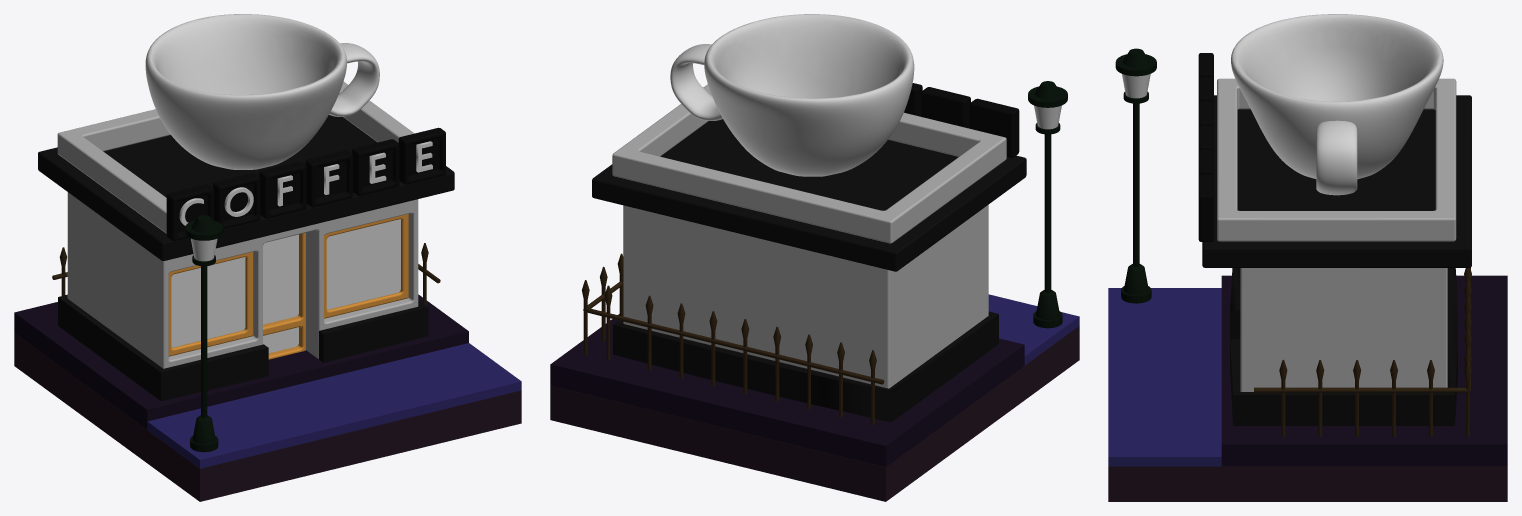
The model's file is coffee-shop.glb.
The picture shows the model from 3 angles, left to right: view 1: azimuth 30°, elevation 25°; view 2: azimuth 150°, elevation 25°; view 3: azimuth 270°, elevation 25°; orthographic projection. The views are drawn at different scales.
Parts seen in each view (by area): view 1: Plane, Cup, Cube001, Cube, Plane001, Cube002, Plane004, Plane002, Plane003, Circle002, Plane009, Plane008 (+6 smaller); view 2: Plane, Cup, Plane001, Cube002, Cube, Plane002, Plane004, Cube005, Circle002, Cube001, CupHandle, Plane006 (+2 smaller); view 3: Plane, Cup, Plane001, Cube001, Cube002, Cube, Plane002, Plane004, Circle002, CupHandle, Cube005, BézierCurve (+1 smaller).
Part boxes in pixels (<box>): Plane: <box>67,192,418,368</box>; Cup: <box>145,14,346,169</box>; Cube001: <box>147,343,521,468</box>; Cube: <box>14,333,521,501</box>; Plane001: <box>38,115,454,260</box>; Cube002: <box>14,294,468,429</box>; Plane004: <box>58,294,428,401</box>; Plane002: <box>57,81,414,233</box>; Plane003: <box>168,214,408,356</box>; Circle002: <box>185,215,223,452</box>; Plane009: <box>305,150,352,207</box>; Plane008: <box>259,162,306,218</box>; Plane: <box>623,205,988,388</box>; Cup: <box>704,14,914,176</box>; Plane001: <box>592,119,1026,271</box>; Cube002: <box>550,314,1024,467</box>; Cube: <box>550,326,1079,501</box>; Plane002: <box>612,84,1006,243</box>; Plane004: <box>613,311,998,422</box>; Cube005: <box>582,253,876,424</box>; Circle002: <box>1028,81,1067,328</box>; Cube001: <box>988,294,1079,365</box>; CupHandle: <box>670,44,722,120</box>; Plane006: <box>969,98,1019,157</box>; Plane: <box>1240,268,1447,391</box>; Cup: <box>1231,14,1443,179</box>; Plane001: <box>1202,95,1471,267</box>; Cube001: <box>1108,288,1221,466</box>; Cube002: <box>1221,275,1507,466</box>; Cube: <box>1108,466,1507,501</box>; Plane002: <box>1217,78,1456,241</box>; Plane004: <box>1230,268,1457,425</box>; Circle002: <box>1115,48,1156,303</box>; CupHandle: <box>1316,120,1357,195</box>; Cube005: <box>1279,268,1471,437</box>; BézierCurve: <box>1254,267,1470,392</box>.
Bounding box in the file's own units: 3.92 × 3.87 × 3.92.
